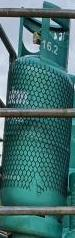cylinder: (1, 1, 75, 238)
